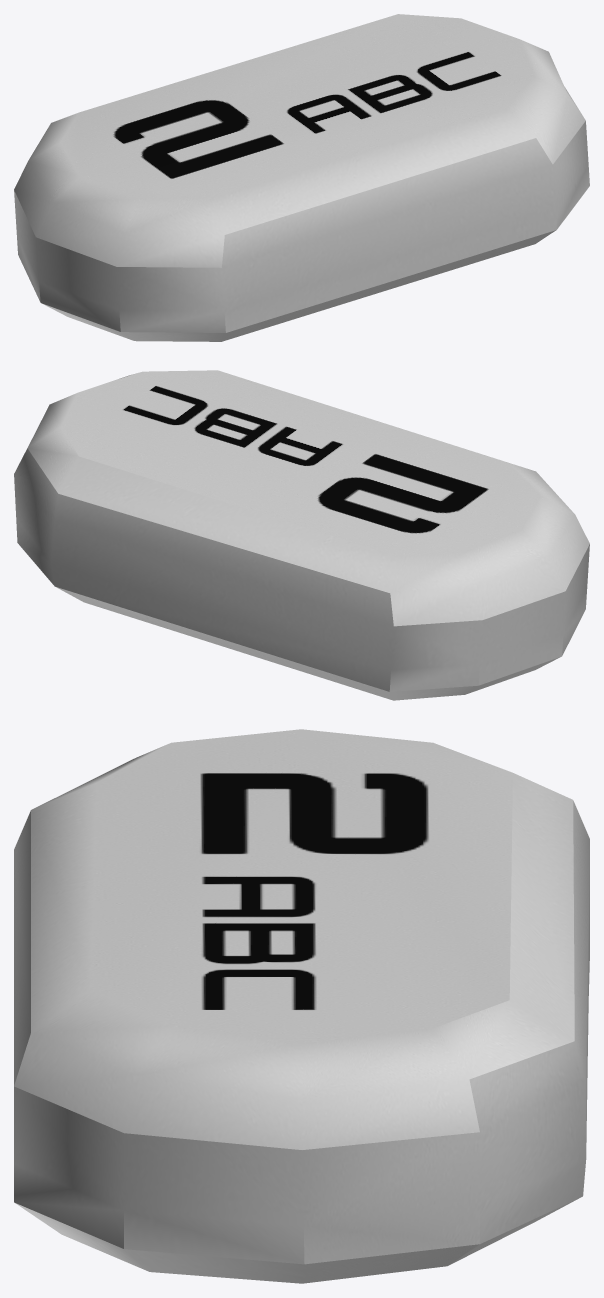
File: abc2_button.glb
3 views of the same model, one above another, from view 1: azimuth 30°, elevation 25°; view 2: azimuth 150°, elevation 25°; view 3: azimuth 270°, elevation 25° (orthographic). The views are drawn at different scales.
Parts seen in each view (by area): view 1: abc2_button; view 2: abc2_button; view 3: abc2_button.
Boxes of the visible parts, <box> form: abc2_button: <box>14,14,589,341</box>; abc2_button: <box>14,370,589,700</box>; abc2_button: <box>14,729,589,1283</box>.
Size of the model in its own units: 0.00277 by 0.000842 by 0.00156.
Materials: 1 (1 with a texture image).
